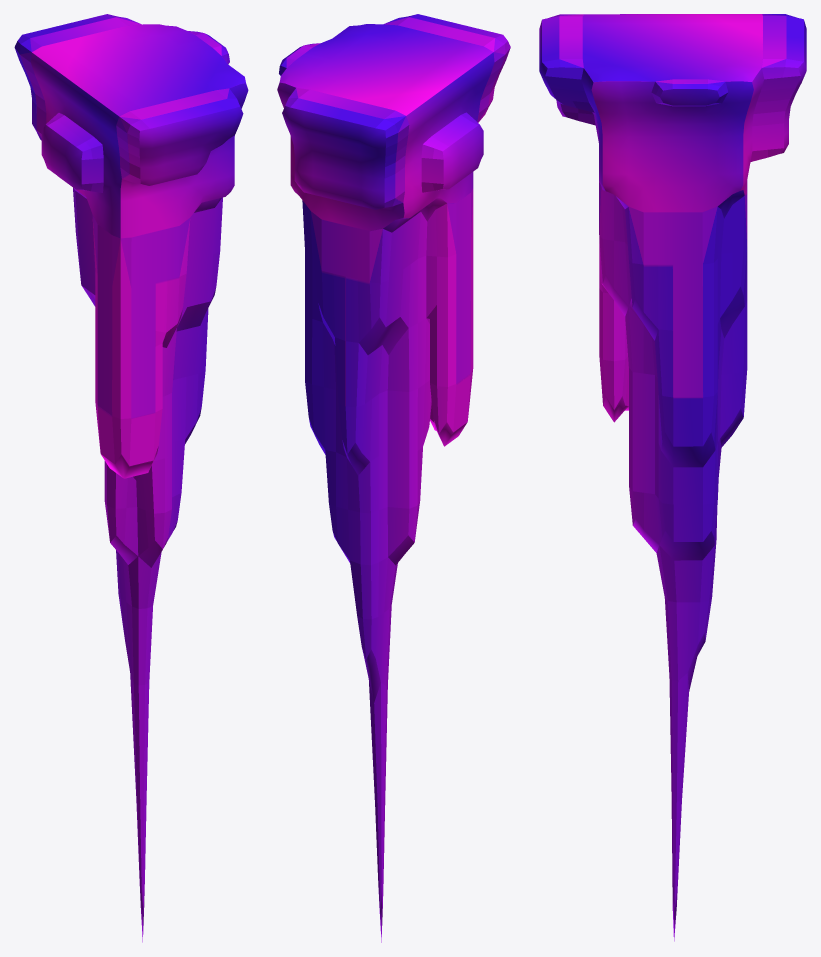
File: kurisutaru2.FBX
3 views of the same model, side by side, from view 1: azimuth 30°, elevation 25°; view 2: azimuth 150°, elevation 25°; view 3: azimuth 270°, elevation 25° (orthographic). The views are drawn at different scales.
Parts seen in each view (by area): view 1: Box001; view 2: Box001; view 3: Box001.
Boxes of the visible parts, x1,y1,x2,y2 form: Box001: (14, 14, 248, 942); Box001: (277, 14, 510, 942); Box001: (539, 14, 806, 941).
Bounding box in the file's own units: 527 × 715 × 2647.
